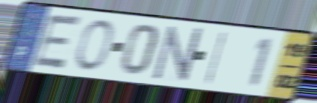0: (118, 22, 161, 78)
1: (250, 37, 274, 90)
E: (30, 12, 86, 71)
I: (202, 30, 230, 87)
N: (151, 25, 205, 83)
O: (73, 17, 115, 73)
